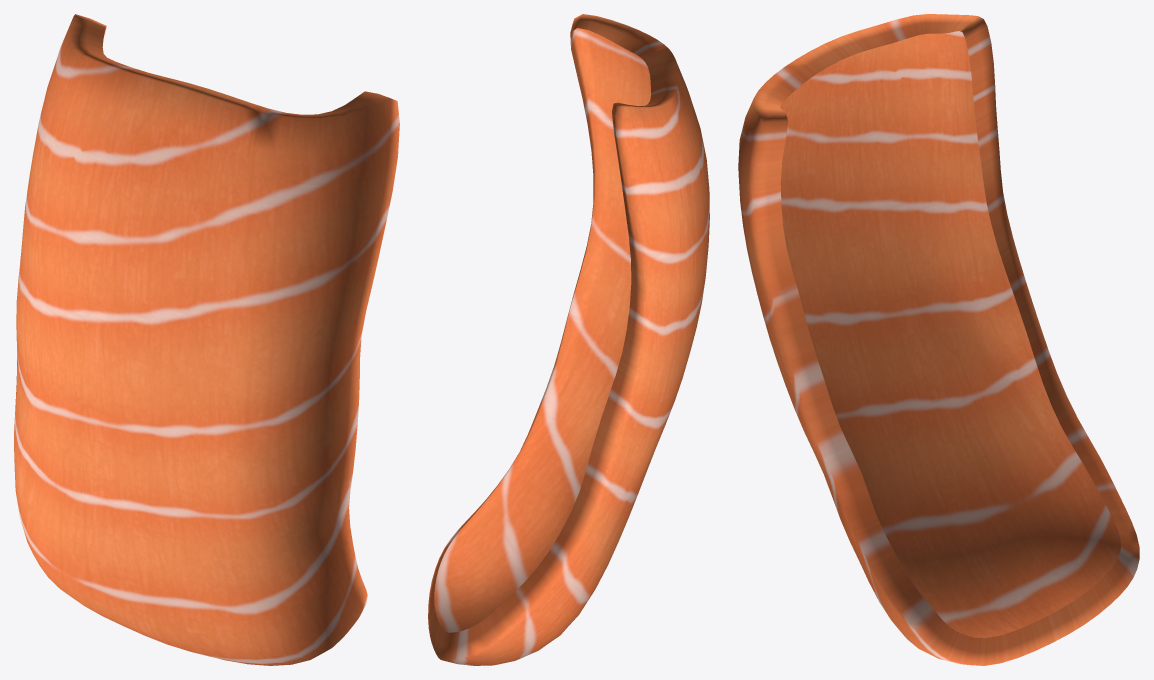
Rendered from salmon.obj.
3 renders of one model, left to right at view 1: azimuth 30°, elevation 25°; view 2: azimuth 150°, elevation 25°; view 3: azimuth 270°, elevation 25°, orthographic. The views are drawn at different scales.
Visible parts, largest first — view 1: dynamic; view 2: dynamic; view 3: dynamic.
Part boxes in pixels (<box>): dynamic: <box>14,14,399,665</box>; dynamic: <box>428,14,709,665</box>; dynamic: <box>738,14,1139,665</box>.
Size of the model in its own units: 0.0327 by 0.0673 by 0.0435.
1 material, 1 textured.
